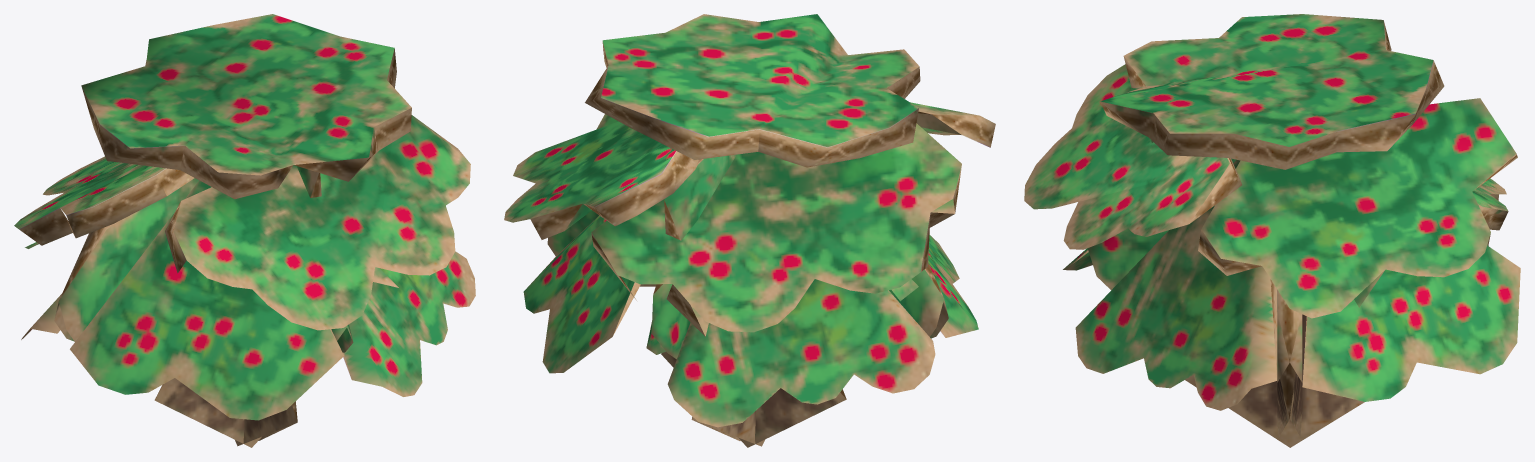
The model's file is BerryBushLOD1.fbx.
3 renders of one model, left to right at view 1: azimuth 30°, elevation 25°; view 2: azimuth 150°, elevation 25°; view 3: azimuth 270°, elevation 25°, orthographic. The views are drawn at different scales.
Parts seen in each view (by area): view 1: C_D_Berry_Bush; view 2: C_D_Berry_Bush; view 3: C_D_Berry_Bush.
Boxes of the visible parts, x1,y1,x2,y2 form: C_D_Berry_Bush: (14,14,475,447); C_D_Berry_Bush: (504,14,995,447); C_D_Berry_Bush: (1024,14,1520,447).
Size of the model in its own units: 7.96 by 6.59 by 7.97.
